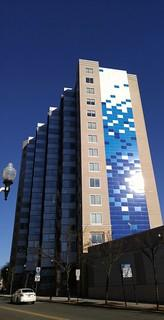building: (9, 57, 162, 306)
